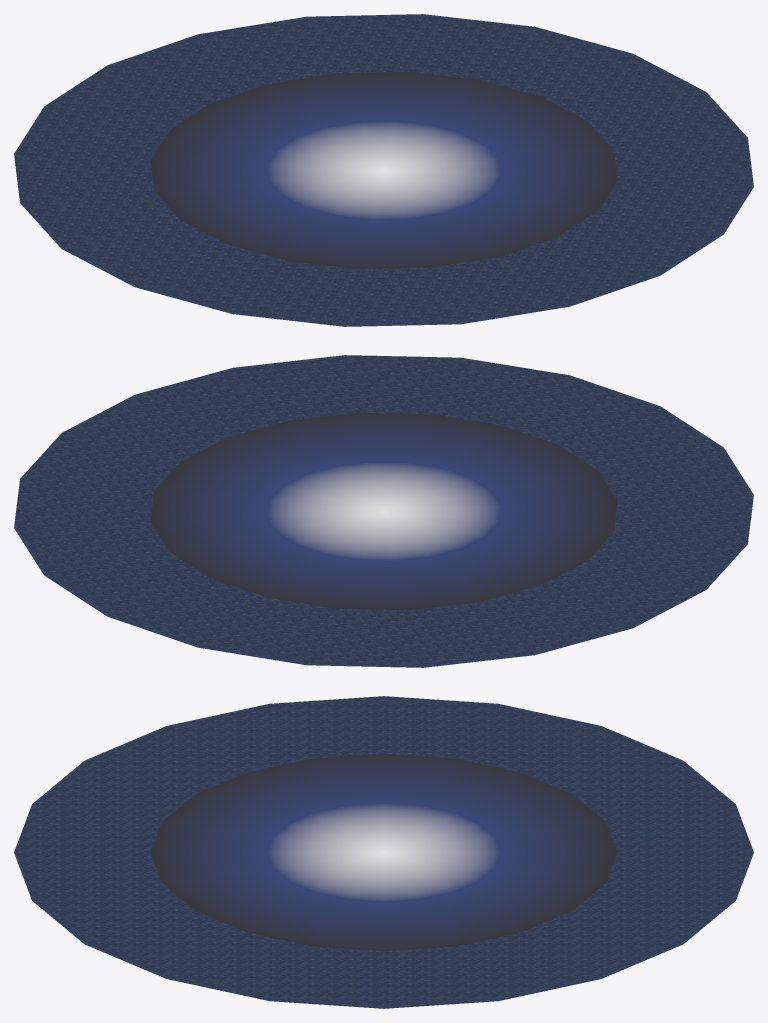
File: FieldBattle_SkillField01.fbx
3 renders of one model, top to bottom at view 1: azimuth 30°, elevation 25°; view 2: azimuth 150°, elevation 25°; view 3: azimuth 270°, elevation 25°, orthographic.
Parts seen in each view (by area): view 1: Terrain; view 2: Terrain; view 3: Terrain.
Part boxes in pixels (<box>): Terrain: <box>14,14,753,326</box>; Terrain: <box>14,355,753,667</box>; Terrain: <box>14,696,753,1008</box>.
Size of what is drawn, in the model's own units: 113 by 0 by 113.
2 materials, 1 textured.
